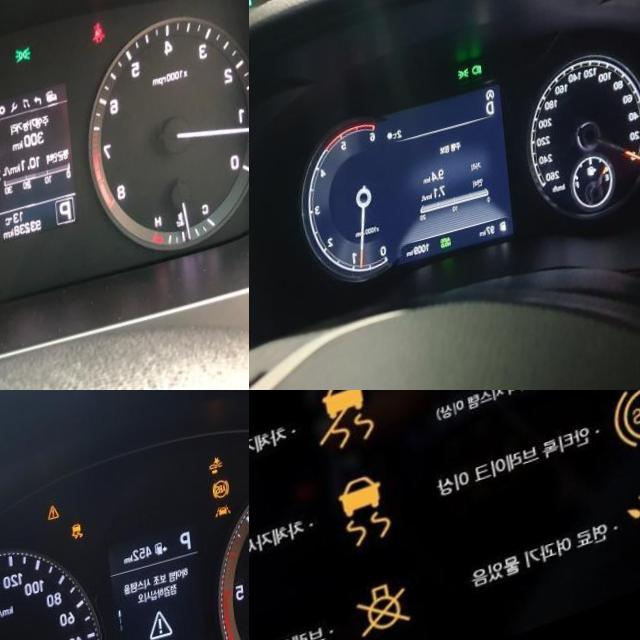Central Warning lamp: (42, 516, 54, 532)
LaneCenteringOff: (208, 523, 226, 539)
Low beam: (466, 79, 478, 94)
SideLamp: (11, 61, 29, 81), (453, 83, 466, 97)
